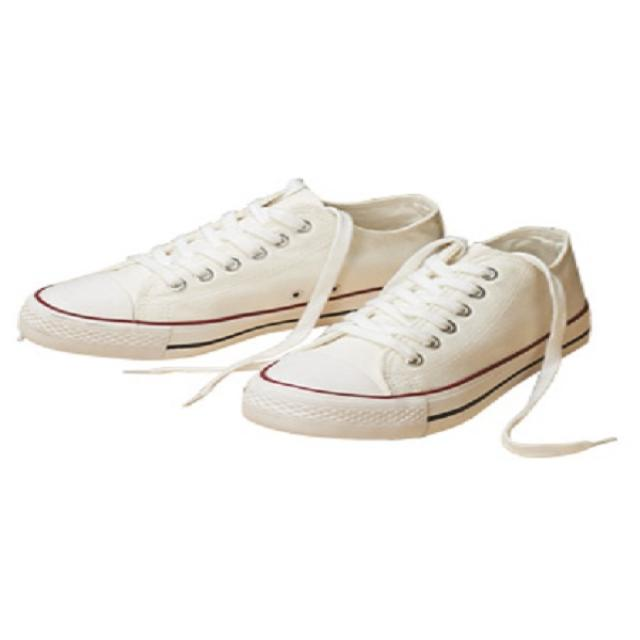shoe: (6, 182, 454, 362), (236, 223, 587, 446)
